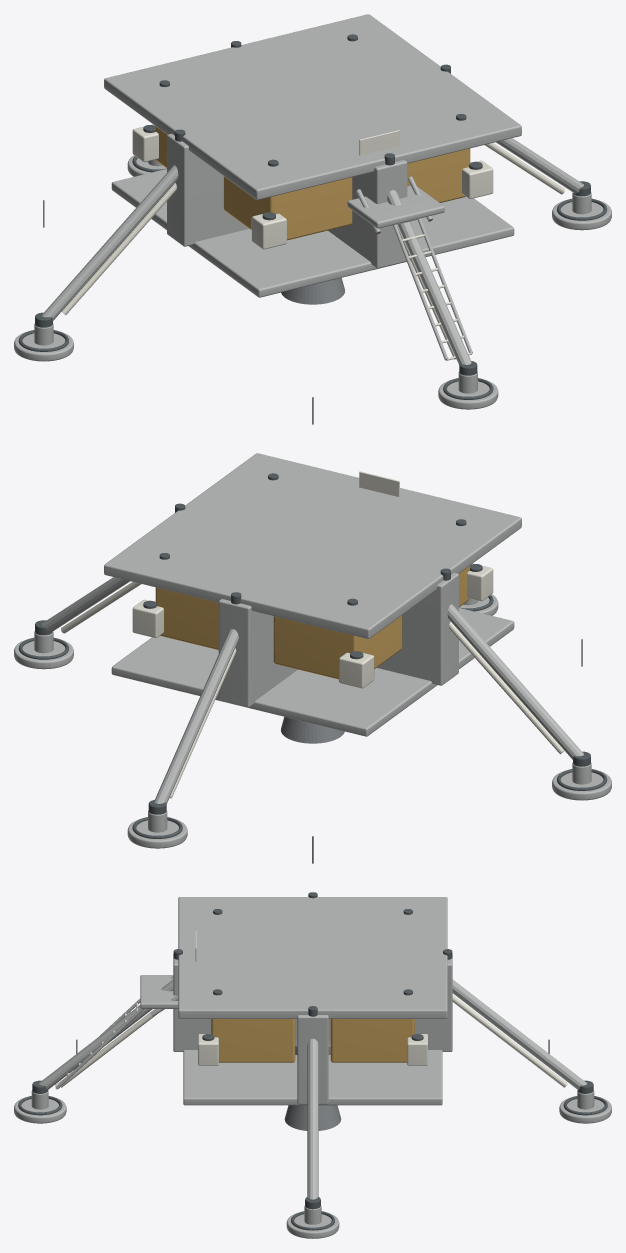
Rendered from Apollo11.fbx.
The picture shows the model from 3 angles, top to bottom: view 1: azimuth 30°, elevation 25°; view 2: azimuth 150°, elevation 25°; view 3: azimuth 270°, elevation 25°; orthographic projection. The views are drawn at different scales.
Visible parts, largest first — view 1: Upper structural deck, Lower structural deck, Main beam - X axis, Equipment bay 4, Main beam - Y axis, Landing gear primary strut 3, Equipment bay 3, Landing gear primary strut 4, Forward egress porch, Landing gear primary strut 1, Descent engine skirt, Landing gear secondary strut 3 (+10 smaller); view 2: Upper structural deck, Lower structural deck, Main beam - X axis, Main beam - Y axis, Equipment bay 2, Equipment bay 1, Landing gear primary strut 3, Landing gear primary strut 2, Landing gear primary strut 1, Descent engine skirt, Landing gear secondary strut 3, Circular landing footpad 1 (+7 smaller); view 3: Upper structural deck, Lower structural deck, Equipment bay 1, Equipment bay 3, Main beam - Y axis, Main beam - X axis, Landing gear primary strut 1, Landing gear primary strut 2, Landing gear primary strut 4, Forward egress porch, Descent engine skirt, Landing gear secondary strut 2 (+6 smaller).
Boxes of the visible parts, <box> form: Upper structural deck: <box>104,14,521,199</box>; Lower structural deck: <box>111,169,514,297</box>; Main beam - X axis: <box>167,133,248,246</box>; Equipment bay 4: <box>223,176,352,240</box>; Main beam - Y axis: <box>328,160,407,268</box>; Landing gear primary strut 3: <box>42,165,178,320</box>; Equipment bay 3: <box>407,148,470,202</box>; Landing gear primary strut 4: <box>387,190,471,364</box>; Forward egress porch: <box>347,185,444,228</box>; Landing gear primary strut 1: <box>495,138,583,193</box>; Descent engine skirt: <box>281,278,344,304</box>; Landing gear secondary strut 3: <box>61,183,176,315</box>; Upper structural deck: <box>104,453,521,638</box>; Lower structural deck: <box>111,608,514,736</box>; Main beam - X axis: <box>377,572,458,685</box>; Main beam - Y axis: <box>218,599,297,707</box>; Equipment bay 2: <box>273,615,402,679</box>; Equipment bay 1: <box>155,587,218,649</box>; Landing gear primary strut 3: <box>447,604,583,759</box>; Landing gear primary strut 2: <box>154,629,238,803</box>; Landing gear primary strut 1: <box>42,577,130,632</box>; Descent engine skirt: <box>281,717,344,743</box>; Landing gear secondary strut 3: <box>449,622,564,754</box>; Circular landing footpad 1: <box>14,639,73,669</box>; Upper structural deck: <box>178,897,447,1018</box>; Lower structural deck: <box>183,1050,442,1105</box>; Equipment bay 1: <box>330,1019,414,1062</box>; Equipment bay 3: <box>211,1019,295,1062</box>; Main beam - Y axis: <box>173,953,452,1051</box>; Main beam - X axis: <box>297,1015,328,1104</box>; Landing gear primary strut 1: <box>307,1038,318,1199</box>; Landing gear primary strut 2: <box>452,979,587,1089</box>; Landing gear primary strut 4: <box>38,979,173,1089</box>; Forward egress porch: <box>140,975,178,1008</box>; Descent engine skirt: <box>284,1105,341,1130</box>; Landing gear secondary strut 2: <box>452,995,567,1087</box>.
Size of the model in its own units: 910 by 305 by 910.
